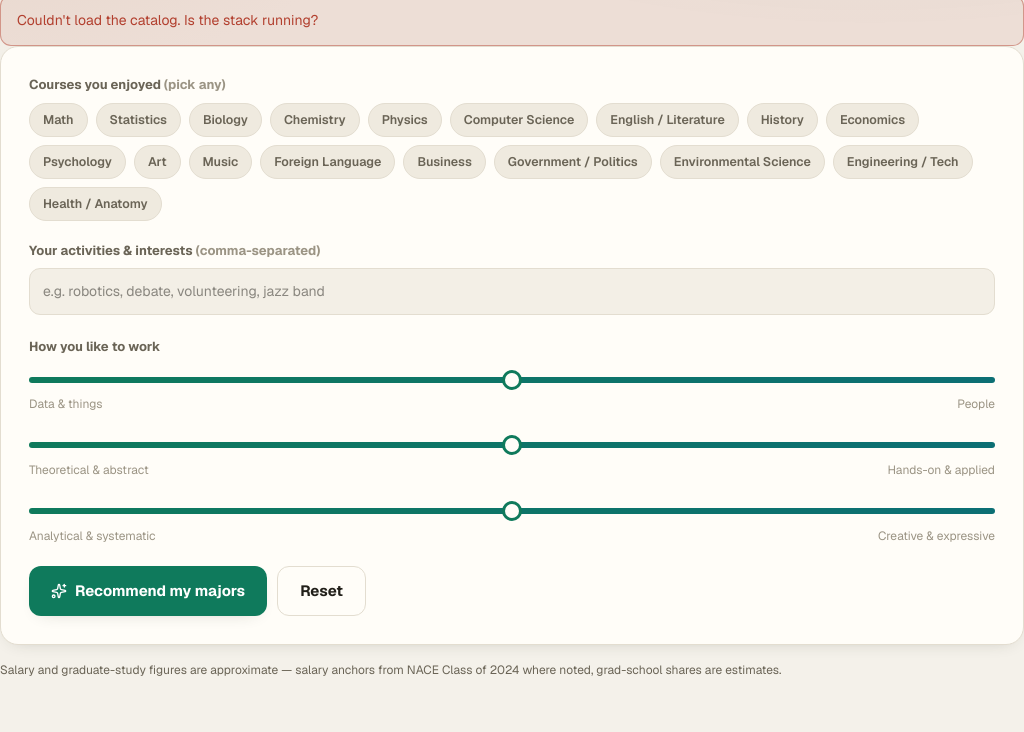
Test case: MajorFinder › explains why a major's schools are missing when the catalog failed, rather than nothing
(page scrolled)
Click the button "Recommend my majors". click: click(148, 591)
box: [29,566,267,616]
(page scrolled)
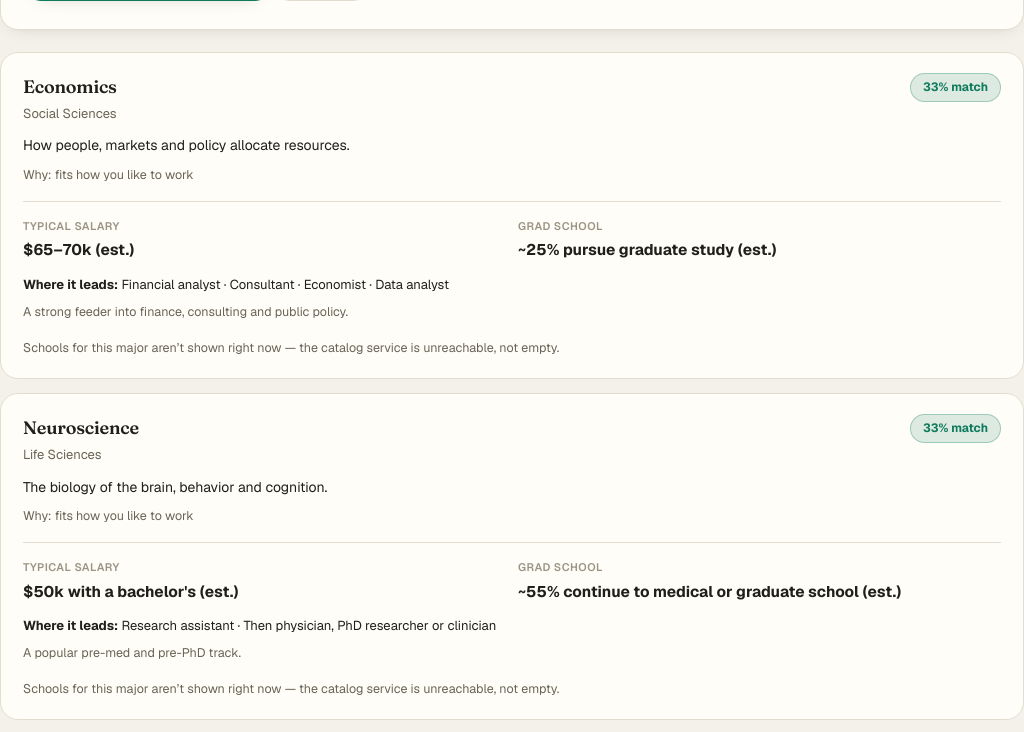
Expected: the text "catalog service is unreachable" below "$65–70k (est.)" is shown, [23,339,559,356]
